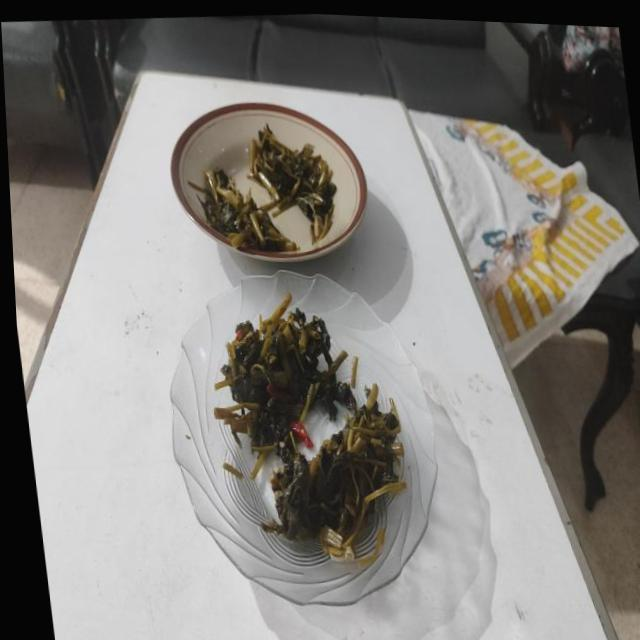tumis_kangkung: (270, 384, 406, 566), (214, 292, 355, 454), (248, 124, 336, 244), (202, 167, 294, 255)
